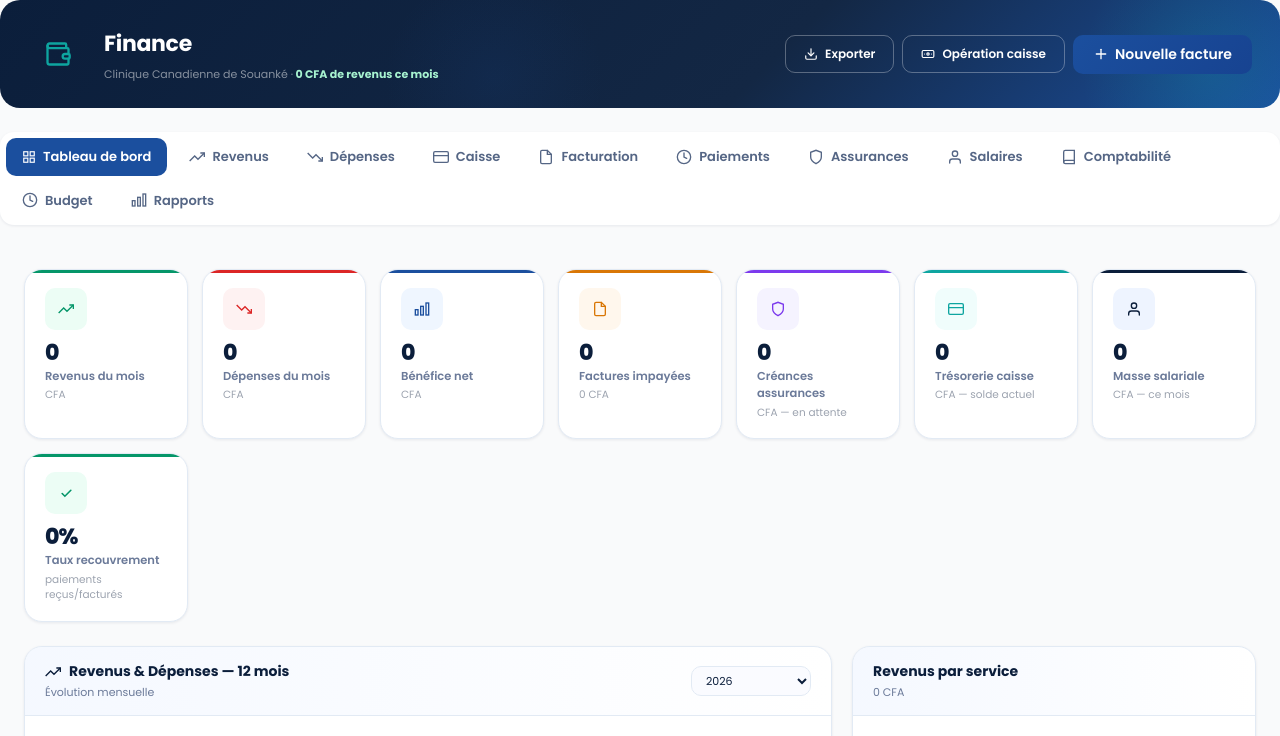
addRevenu — réponse serveur réelle et complète : le vrai revenu renvoyé par le serveur est affiché, succès réel
This screenshot has width=1280, height=736.
Click the button "Revenus". click: (229, 157)
box: [173,138,285,176]
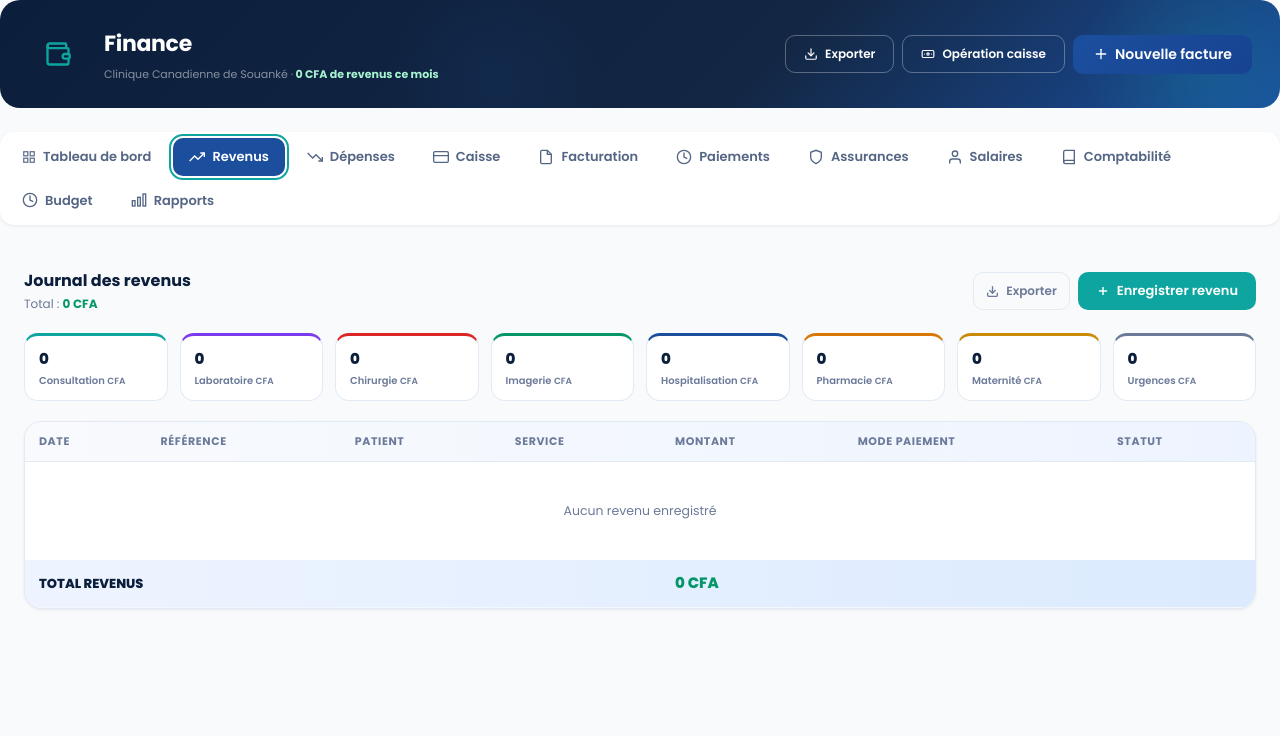
Click the button "Enregistrer revenu". click: (1167, 291)
box: [1078,272,1256,310]
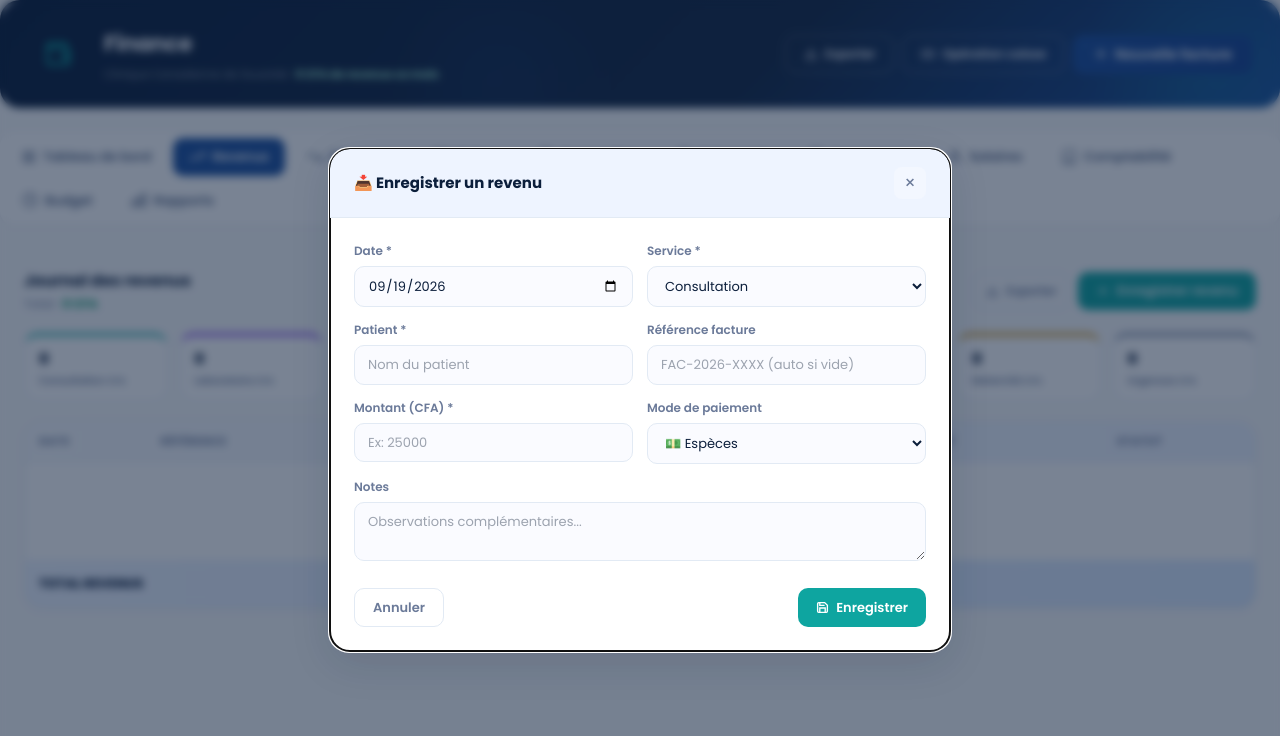
Type "Patient Test" into the field with placeholder "Nom du patient". click: (494, 365)
box: [354,345,633,385]
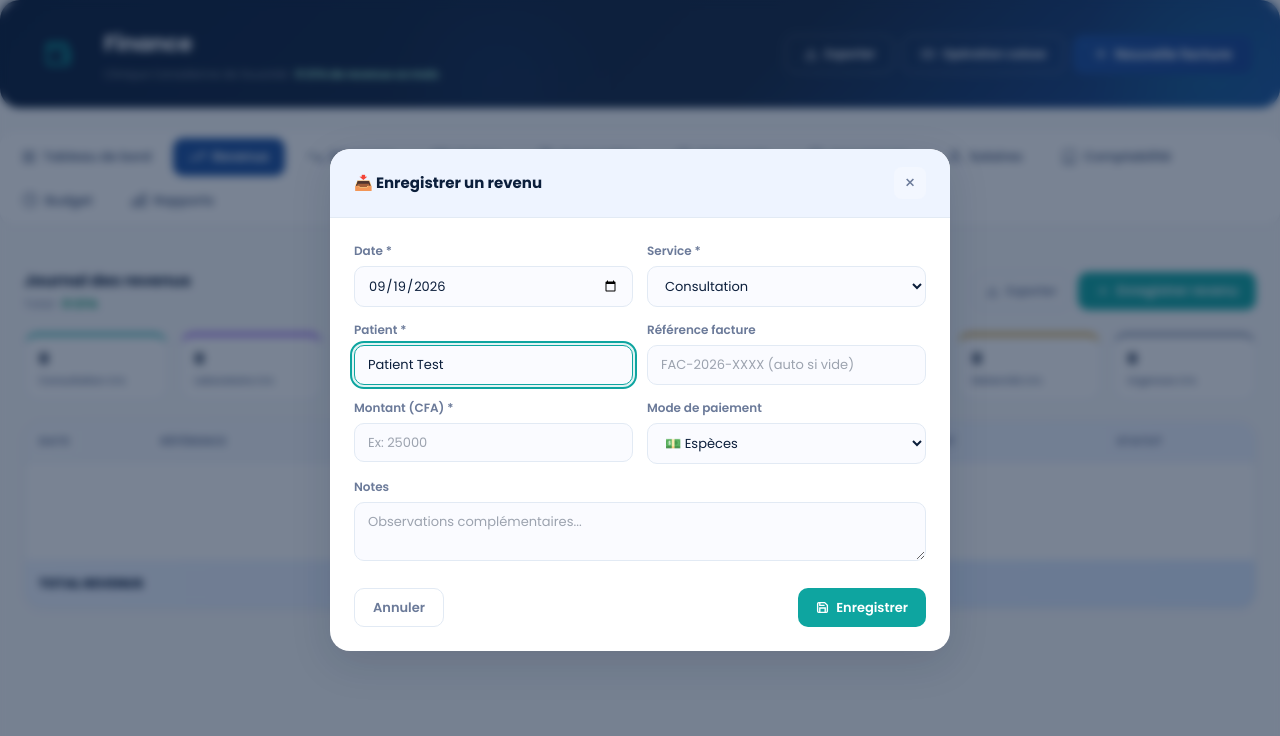
Type "25000" into the number field with placeholder "Ex: 25000". click: (494, 443)
box: [354,423,633,462]
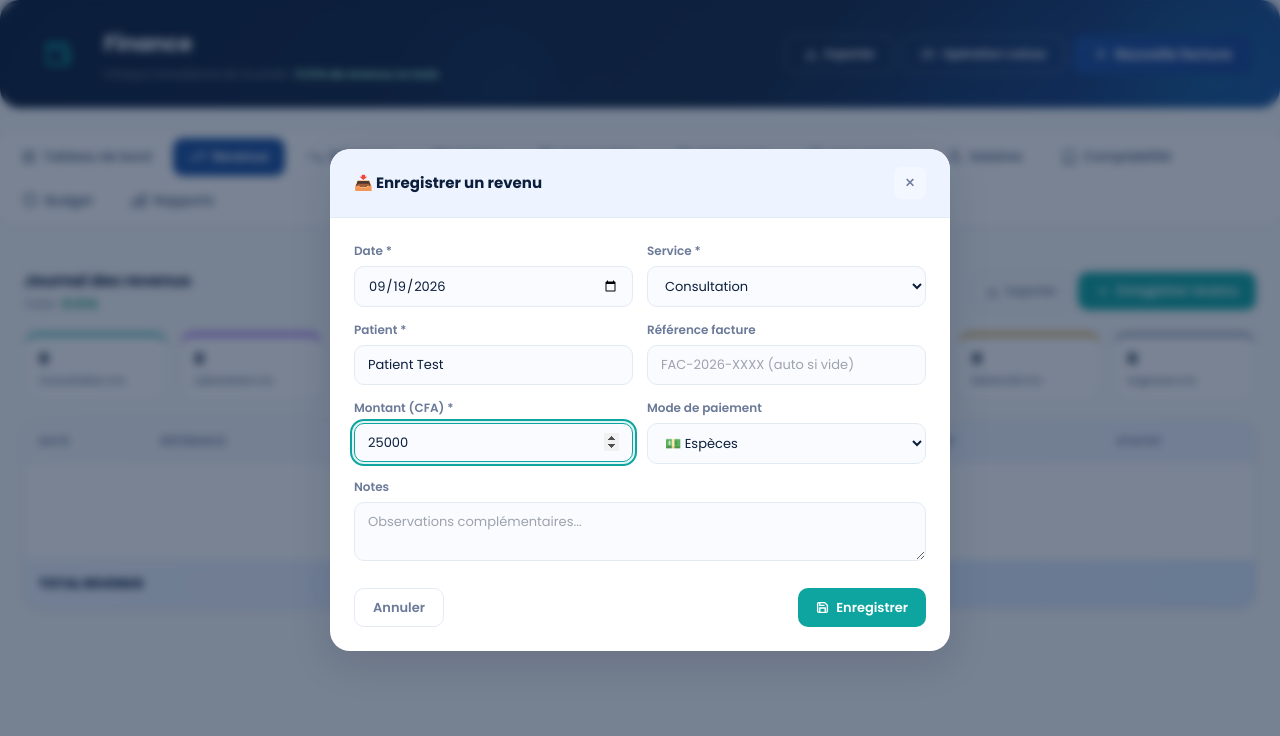
Click the button "Enregistrer". click: (862, 608)
box: [798,588,926,627]
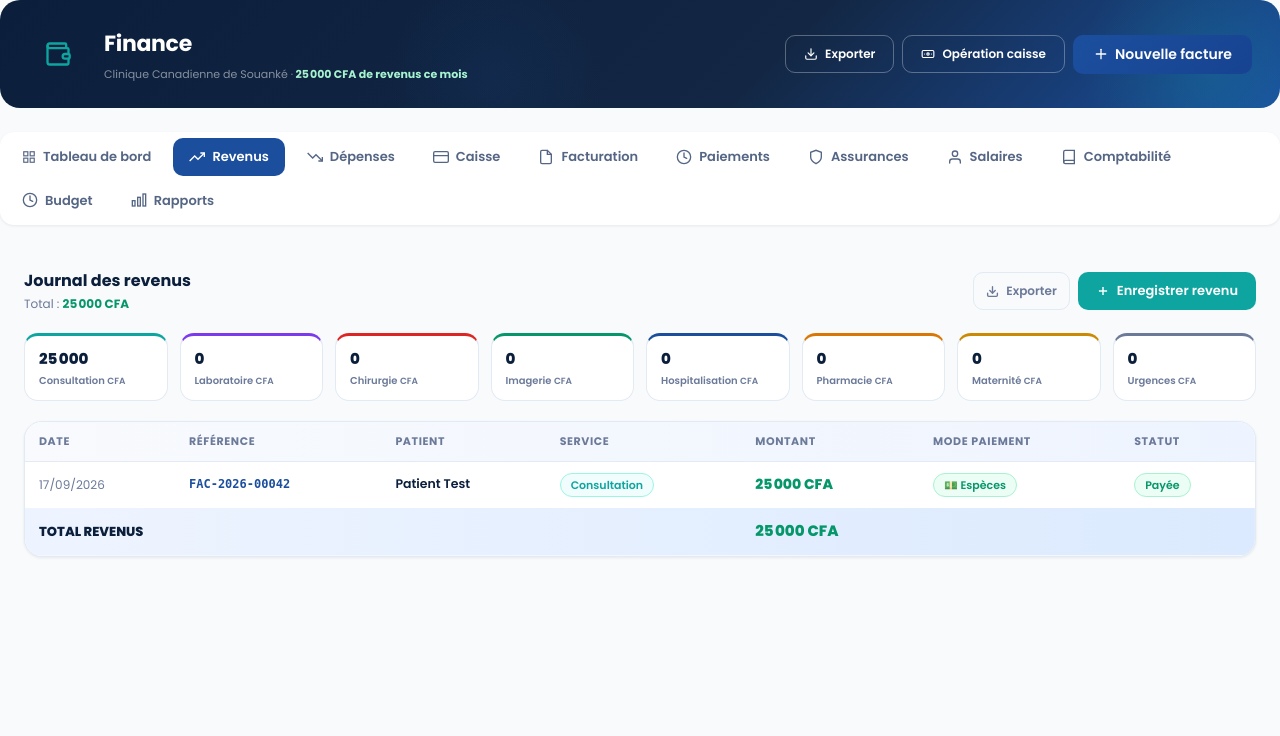
Now the text "FAC-2026-00042" is shown, box [189,477,290,491]
